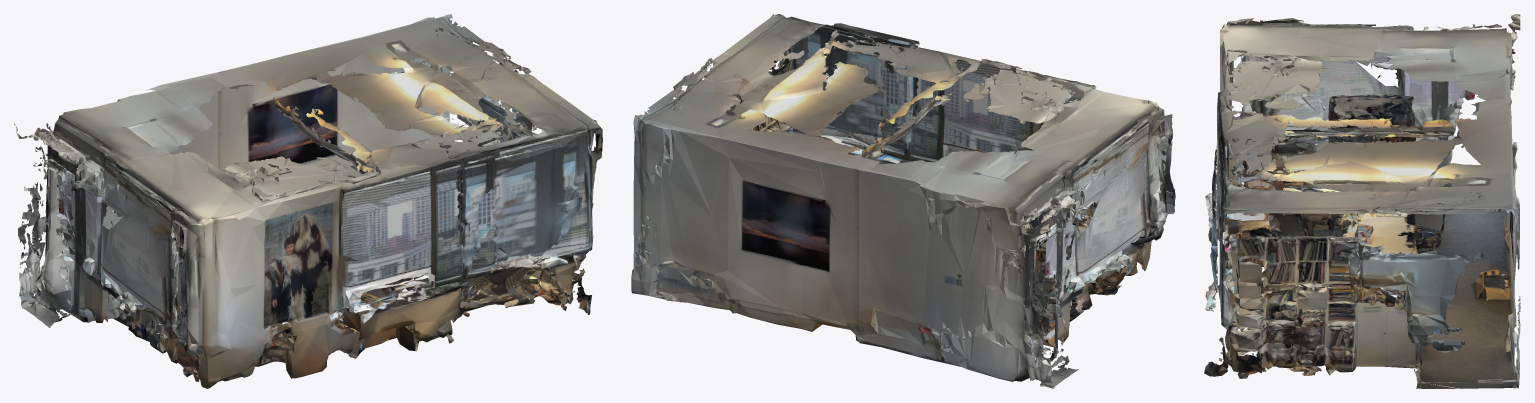
File: Photography_pt1_LOW_POLY.fbx
The picture shows the model from 3 angles, left to right: view 1: azimuth 30°, elevation 25°; view 2: azimuth 150°, elevation 25°; view 3: azimuth 270°, elevation 25°; orthographic projection. The views are drawn at different scales.
Parts seen in each view (by area): view 1: Photography_pt1_LOW_POLY; view 2: Photography_pt1_LOW_POLY; view 3: Photography_pt1_LOW_POLY.
Boxes of the visible parts, left/top/right/bottom form: Photography_pt1_LOW_POLY: left=14, top=14, right=602, bottom=388; Photography_pt1_LOW_POLY: left=631, top=14, right=1175, bottom=388; Photography_pt1_LOW_POLY: left=1204, top=14, right=1520, bottom=388.
Size of the model in its own units: 640 by 281 by 420.
Materials: 1 (1 with a texture image).
